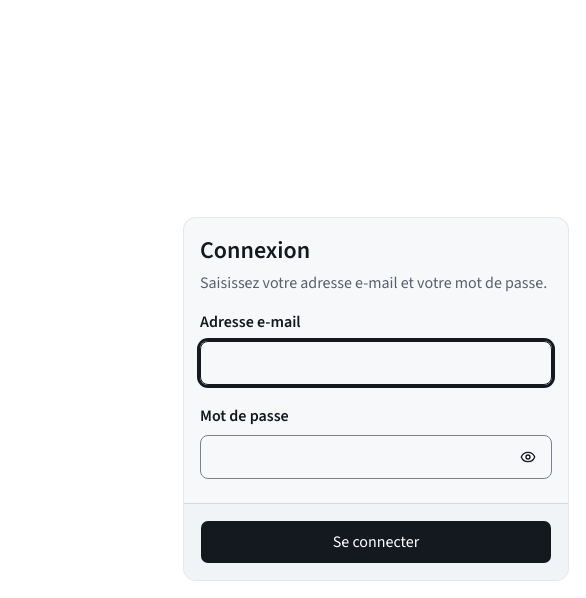
routes › sends a visitor who is not signed in to the sign-in page, then back to where they were going
Expected: the heading "Connexion" is shown, top-left (200, 233), bottom-right (310, 268)
Type "khawla@exemple.test" into the field labelled "Adresse e-mail". click: [376, 363]
box: top-left (200, 341), bottom-right (552, 385)
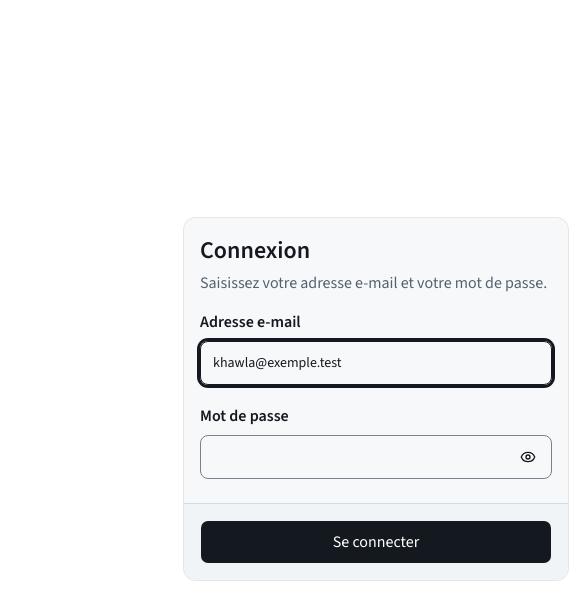
Type "une phrase de passe assez longue" into the password field labelled "Mot de passe". click: [376, 457]
box: top-left (200, 435), bottom-right (552, 479)
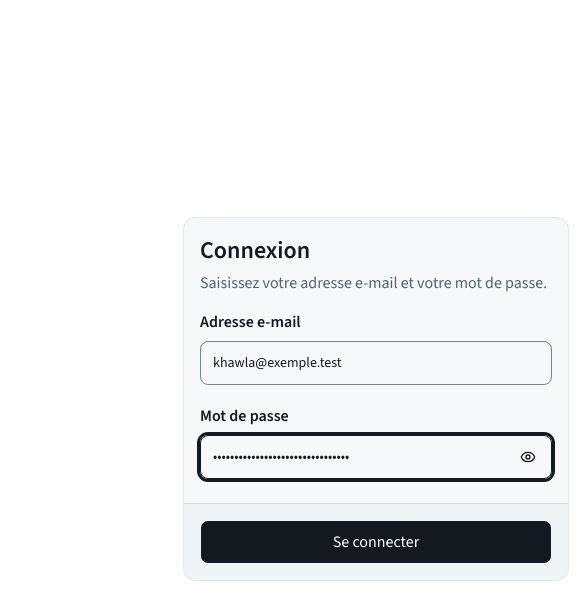
Click the button "Se connecter". click: [376, 542]
box: top-left (200, 520), bottom-right (552, 564)
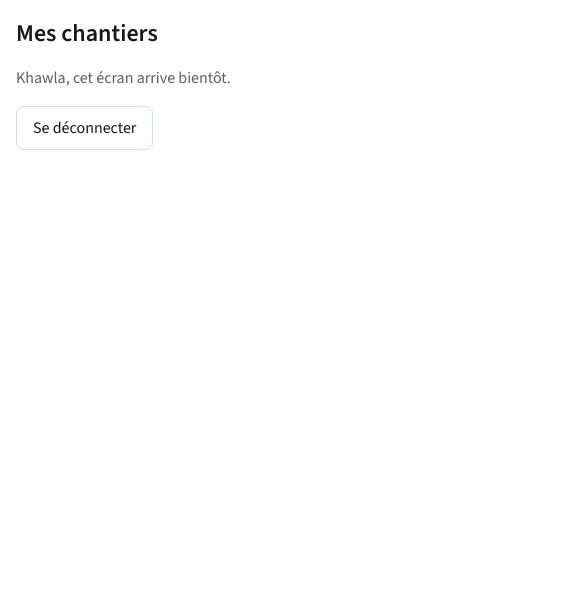
Result: the heading "Mes chantiers" is shown at top-left (16, 16), bottom-right (158, 51)
